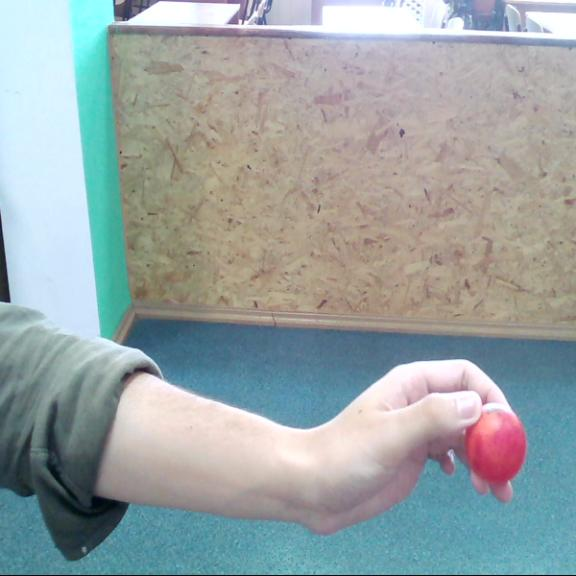ball: (466, 406, 528, 484)
